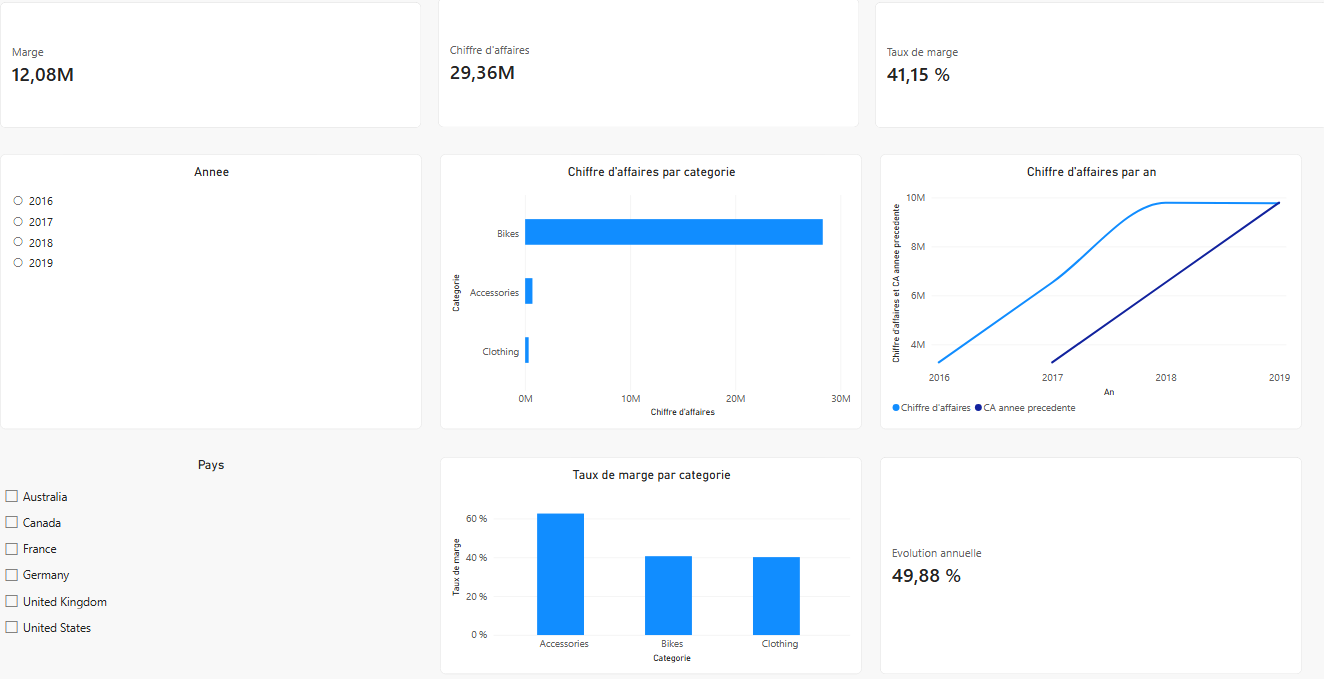

This screenshot's page, from the dashboard's own definition file:
{"tool":"powerbi","page":{"name":"Ventes","canvas":[1920,1080],"ordinal":0},"visuals":[{"type":"lineChart","title":"Chiffre d''affaires par an","fields":{"Category":["Calendar.CalendarYear"],"Y":["Territory.Chiffre d'affaires","Territory.CA annee precedente"]},"box":[1271.8,231.1,610,397.7],"z":0},{"type":"clusteredBarChart","title":"Chiffre d''affaires par categorie","fields":{"Category":["dimProductCategory.EnglishProductCategoryName"],"Y":["Territory.Chiffre d'affaires"]},"box":[635.9,231.1,610,397.7],"z":1000},{"type":"cardVisual","fields":{"Data":["Territory.Chiffre d'affaires"]},"box":[632.8,6.3,610,187.1],"z":2000},{"type":"cardVisual","fields":{"Data":["Territory.Marge"]},"box":[0,11,610,182.4],"z":3000},{"type":"cardVisual","fields":{"Data":["Territory.Taux de marge"]},"box":[1265.1,11.6,654.9,182.2],"z":4000},{"type":"slicer","title":"Pays","fields":{"Values":["Territory.Country"]},"box":[0,738.8,610,314.4],"z":5000},{"type":"listSlicer","title":"Annee","fields":{"Values":["Calendar.CalendarYear"]},"box":[0,231.1,610,397.7],"z":6000},{"type":"clusteredColumnChart","title":"Taux de marge par categorie","fields":{"Category":["dimProductCategory.EnglishProductCategoryName"],"Y":["Territory.Taux de marge"]},"box":[636.7,669.7,610,314.4],"z":7000},{"type":"cardVisual","fields":{"Data":["Territory.Evolution annuelle"]},"box":[1272,670,610,314],"z":8000}]}

Visuals, with their boxes on the page's 1920x1080 design canvas (x1, y1, x2, y2). These are canvas units, not pixel positions in the 1324x679 screenshot, which may show the page scaled, cropped or inside an application window:
"Chiffre d''affaires par an" lineChart: {"left": 1272, "top": 231, "right": 1882, "bottom": 629}
"Chiffre d''affaires par categorie" clusteredBarChart: {"left": 636, "top": 231, "right": 1246, "bottom": 629}
cardVisual - Territory.Chiffre d'affaires: {"left": 633, "top": 6, "right": 1243, "bottom": 193}
cardVisual - Territory.Marge: {"left": 0, "top": 11, "right": 610, "bottom": 193}
cardVisual - Territory.Taux de marge: {"left": 1265, "top": 12, "right": 1920, "bottom": 194}
"Pays" slicer: {"left": 0, "top": 739, "right": 610, "bottom": 1053}
"Annee" listSlicer: {"left": 0, "top": 231, "right": 610, "bottom": 629}
"Taux de marge par categorie" clusteredColumnChart: {"left": 637, "top": 670, "right": 1247, "bottom": 984}
cardVisual - Territory.Evolution annuelle: {"left": 1272, "top": 670, "right": 1882, "bottom": 984}
